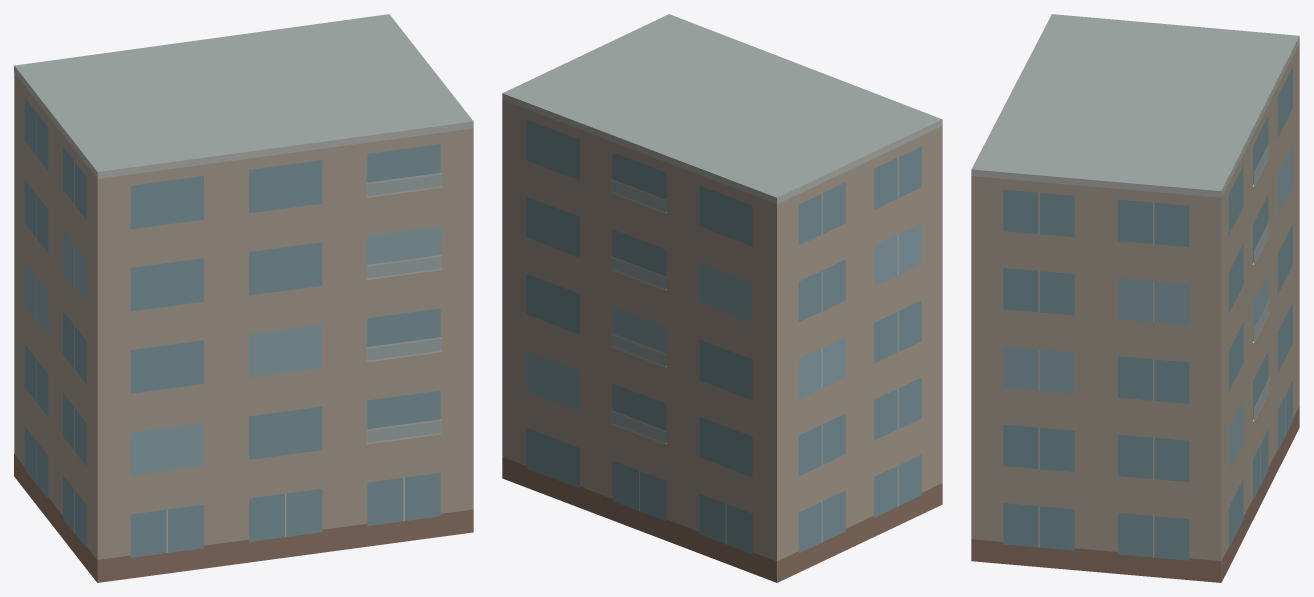
The model's file is survey-upis-32879686.glb.
The picture shows the model from 3 angles, left to right: view 1: azimuth 30°, elevation 25°; view 2: azimuth 150°, elevation 25°; view 3: azimuth 270°, elevation 25°; orthographic projection. The views are drawn at different scales.
Parts seen in each view (by area): view 1: survey-upis-32879686.tmp; view 2: survey-upis-32879686.tmp; view 3: survey-upis-32879686.tmp.
Part boxes in pixels (x1,y1,x2,y2): survey-upis-32879686.tmp: (14,14,473,582); survey-upis-32879686.tmp: (502,14,942,582); survey-upis-32879686.tmp: (971,14,1299,582).
Size of the model in its own units: 13.98 by 14.4 by 10.95.
